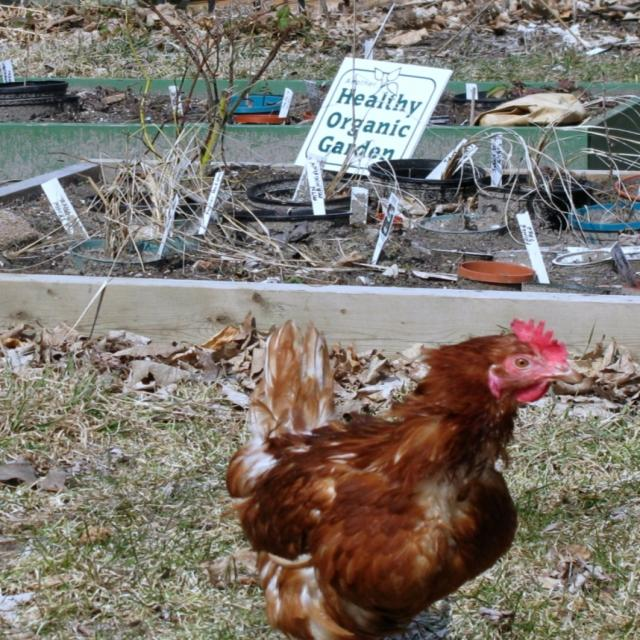Chicken: (220, 310, 592, 639)
